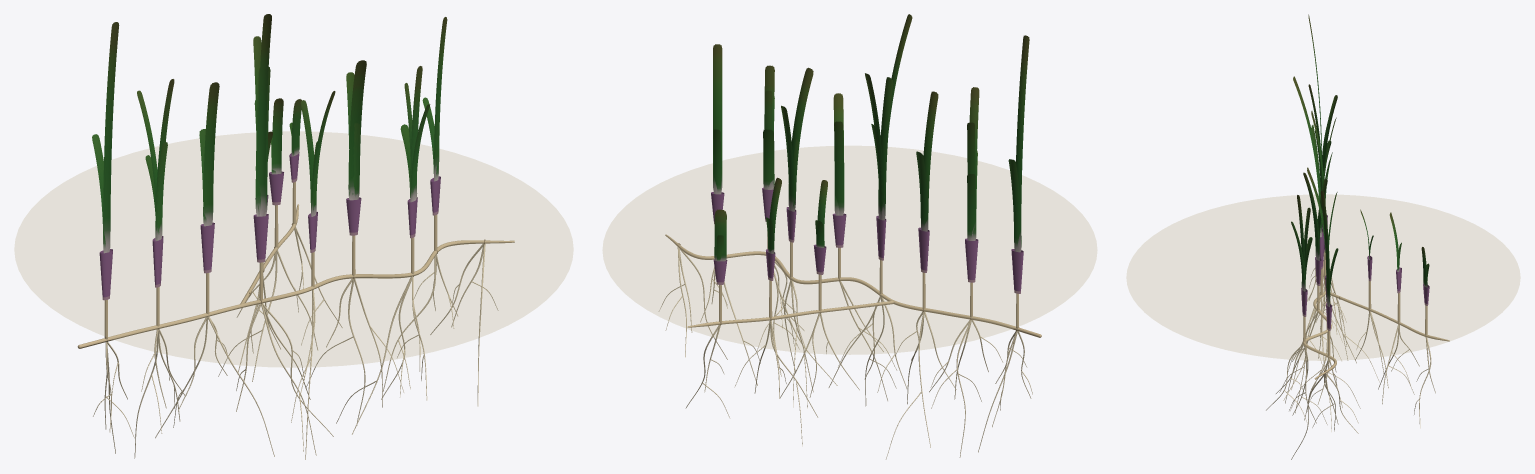
File: cymodocea-serrulata.glb
3 renders of one model, left to right at view 1: azimuth 30°, elevation 25°; view 2: azimuth 150°, elevation 25°; view 3: azimuth 270°, elevation 25°, orthographic. The views are drawn at different scales.
Parts seen in each view (by area): view 1: Sediment, Leaves, Roots, LeafSheaths, Rhizome, ErectStems; view 2: Sediment, Leaves, Roots, LeafSheaths, Rhizome, ErectStems; view 3: Sediment, Leaves, Roots, LeafSheaths, Rhizome, ErectStems.
Boxes of the visible parts, x1,y1,x2,y2 form: Sediment: [14, 131, 573, 367]; Leaves: [92, 14, 447, 253]; Roots: [93, 227, 498, 459]; LeafSheaths: [99, 152, 440, 300]; Rhizome: [77, 204, 514, 348]; ErectStems: [104, 182, 437, 339]; Sediment: [602, 146, 1097, 354]; Leaves: [713, 14, 1029, 261]; Roots: [658, 247, 1032, 459]; LeafSheaths: [711, 187, 1023, 293]; Rhizome: [665, 234, 1041, 337]; ErectStems: [719, 231, 1018, 328]; Sediment: [1126, 194, 1520, 360]; Leaves: [1291, 14, 1429, 306]; Roots: [1266, 251, 1435, 459]; LeafSheaths: [1301, 213, 1429, 330]; Rhizome: [1303, 260, 1449, 379]; ErectStems: [1303, 251, 1427, 355].
Bounding box in the file's own units: 0.3389 × 0.3161 × 0.3389.
7 materials, 1 textured.
